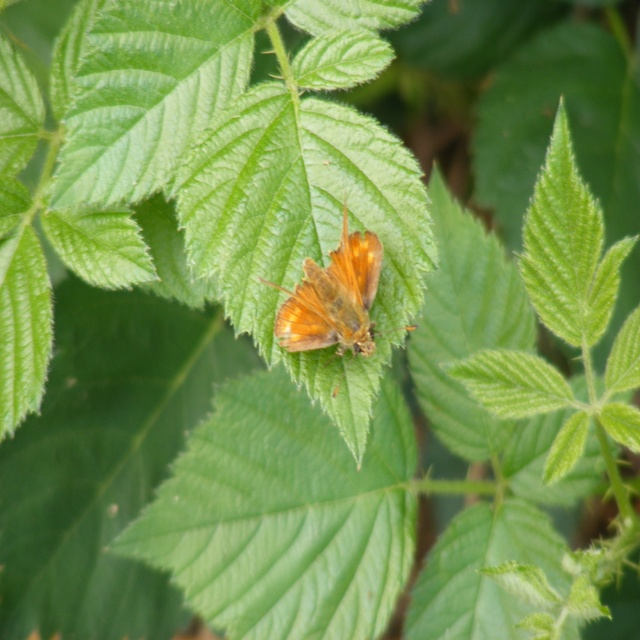Butterfly: (258, 191, 420, 399)
